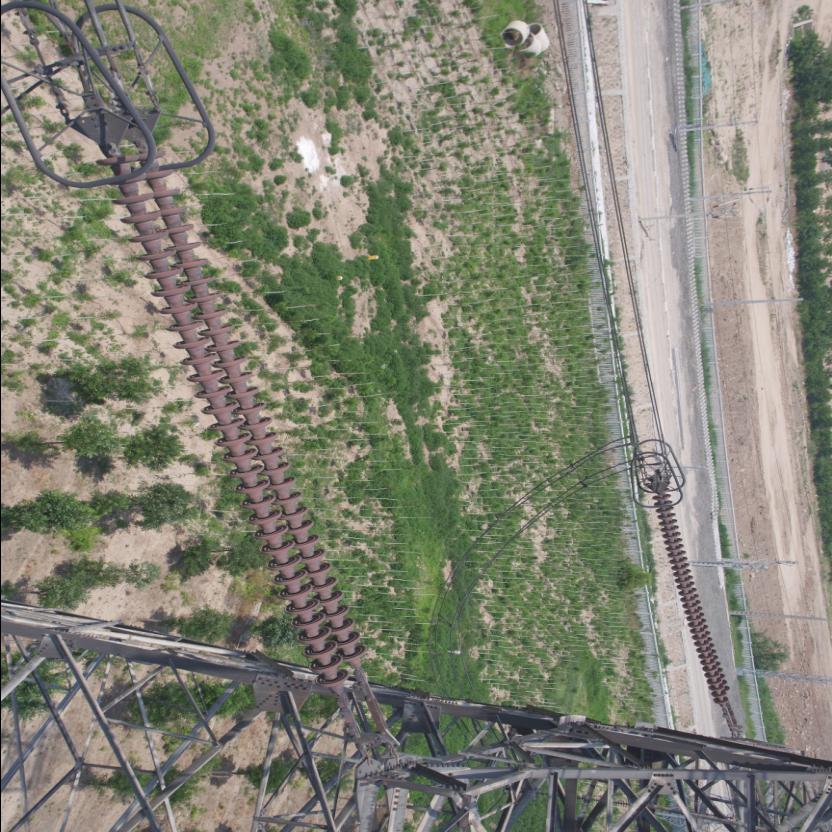insulator: (93, 130, 374, 712), (650, 490, 734, 716)
